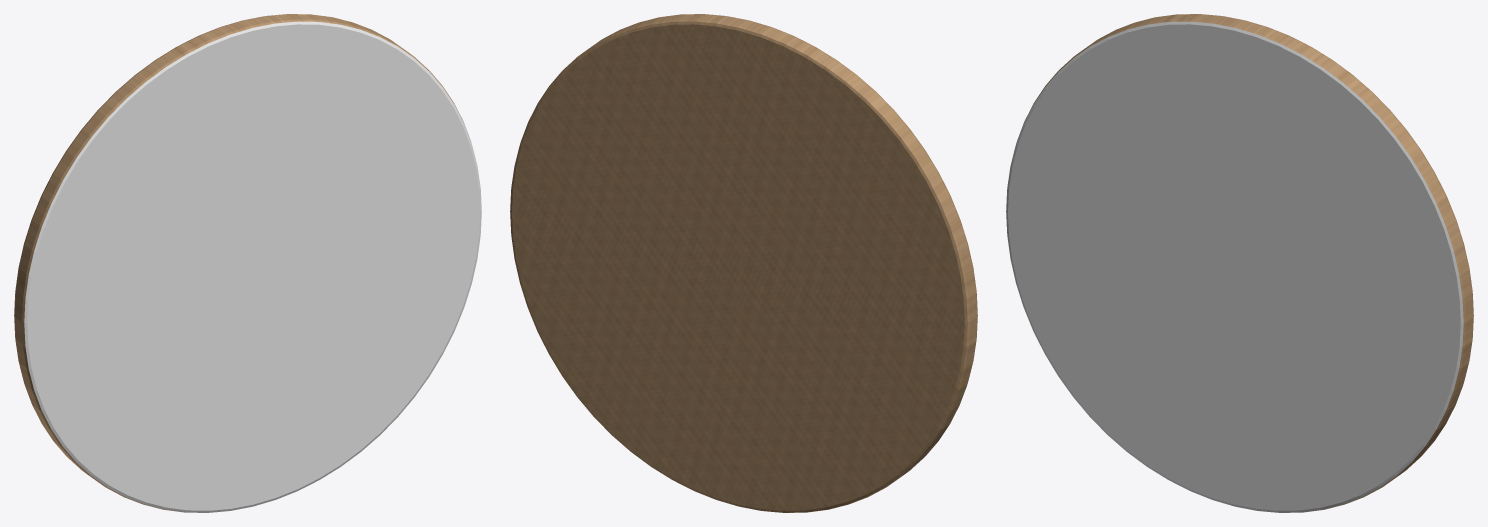
3 views of the same model, side by side, from view 1: azimuth 30°, elevation 25°; view 2: azimuth 150°, elevation 25°; view 3: azimuth 330°, elevation 25° (orthographic).
Visible parts, largest first — view 1: MDF-Untersetzer; view 2: MDF-Untersetzer; view 3: MDF-Untersetzer.
Boxes of the visible parts, x1=… form: MDF-Untersetzer: x1=14, y1=14, x2=481, y2=512; MDF-Untersetzer: x1=510, y1=14, x2=977, y2=512; MDF-Untersetzer: x1=1006, y1=14, x2=1473, y2=512.
Size of the model in its own units: 0.094 by 0.094 by 0.004.
Materials: 2 (1 with a texture image).
